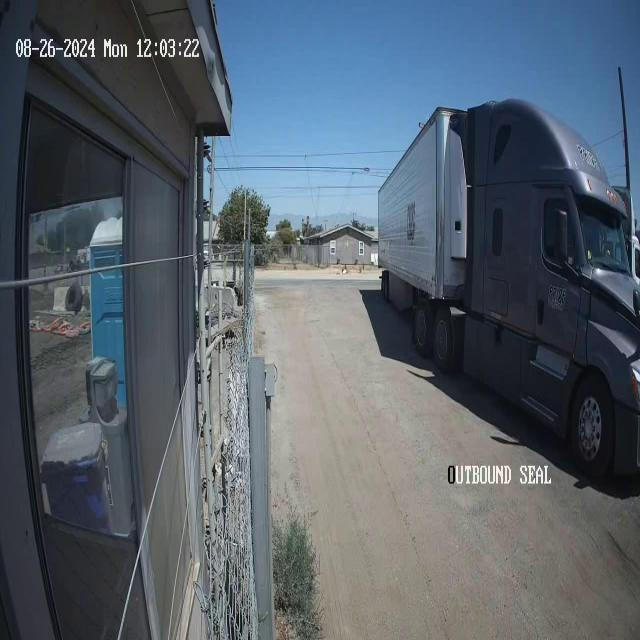TRUCK_CONTAINER: (377, 92, 639, 482)
